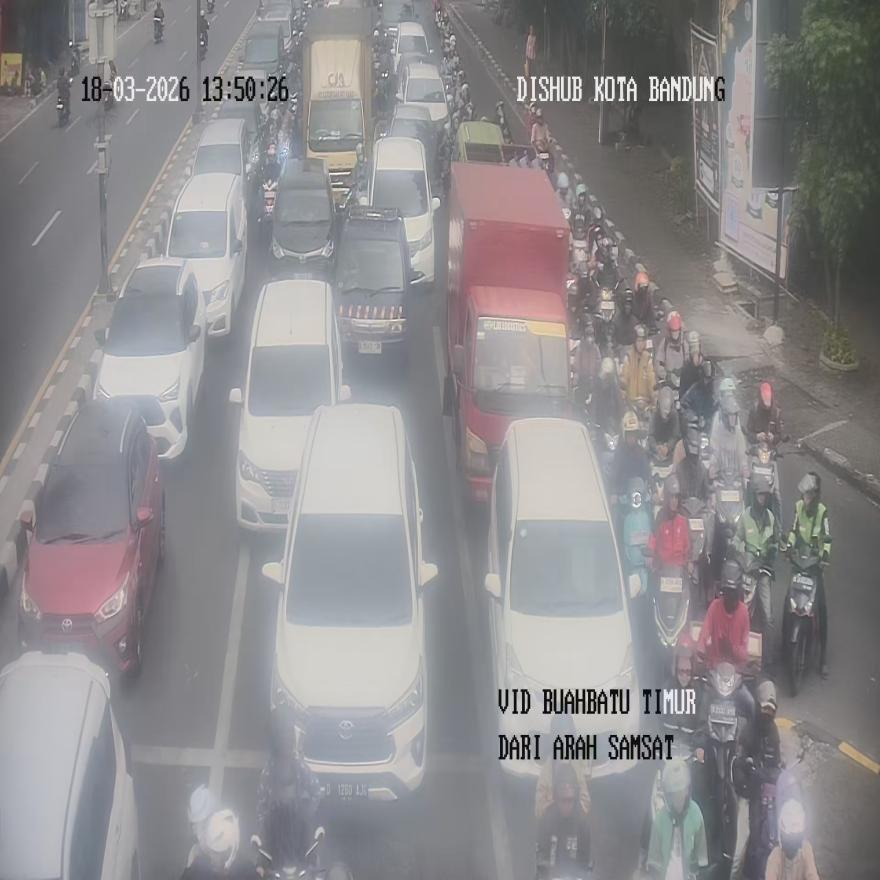Mobil: (261, 399, 438, 802), (484, 418, 643, 783), (16, 399, 164, 676), (0, 651, 142, 878), (229, 277, 346, 531), (94, 258, 206, 460), (163, 171, 246, 337), (366, 134, 440, 286)
Truk: (302, 6, 375, 202)
